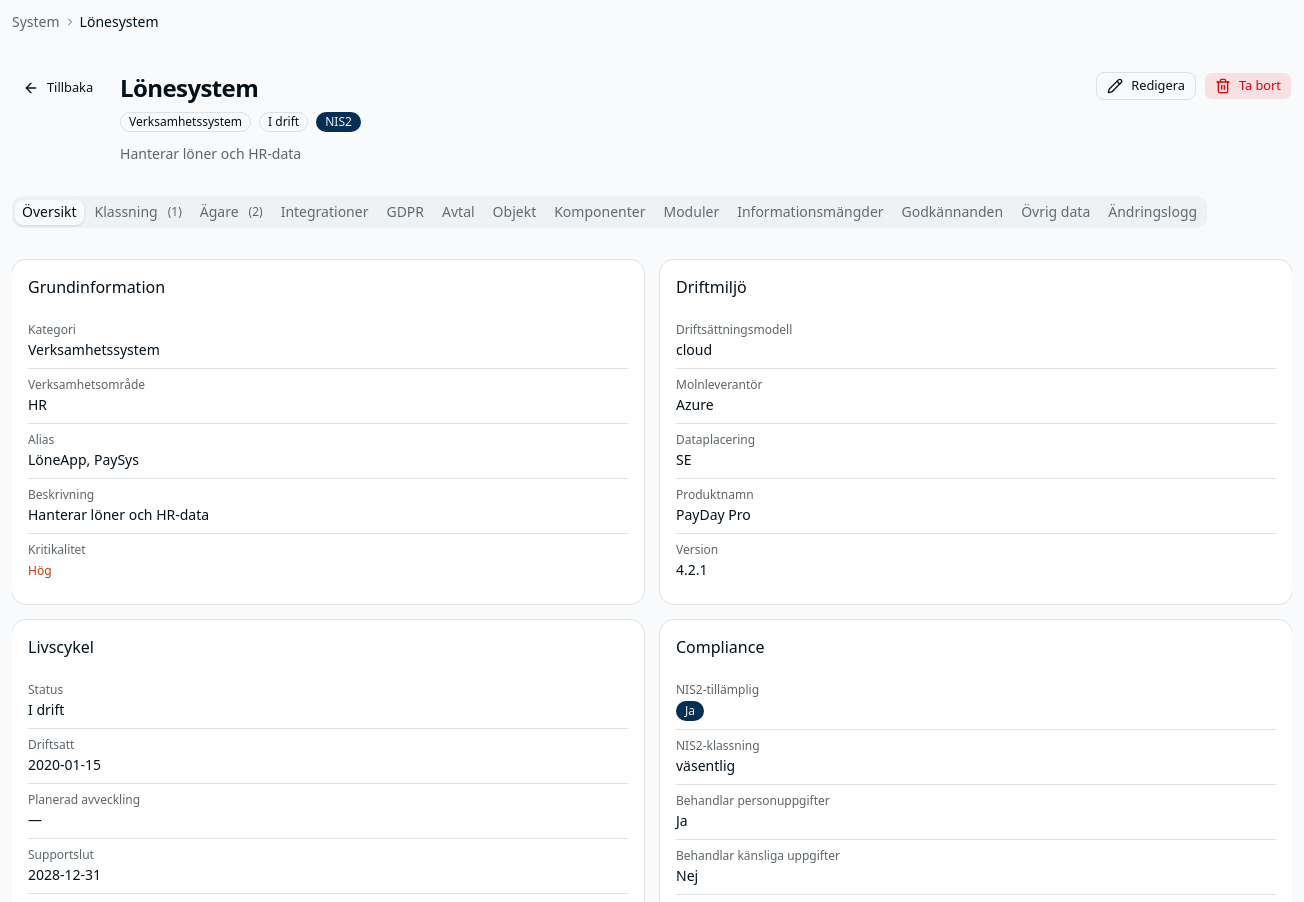
Scenario: SystemDetailPage › Integrationer-tab › visar integration i tabellen
Click the tab "Integrationer": (325, 212) [274,200,376,224]
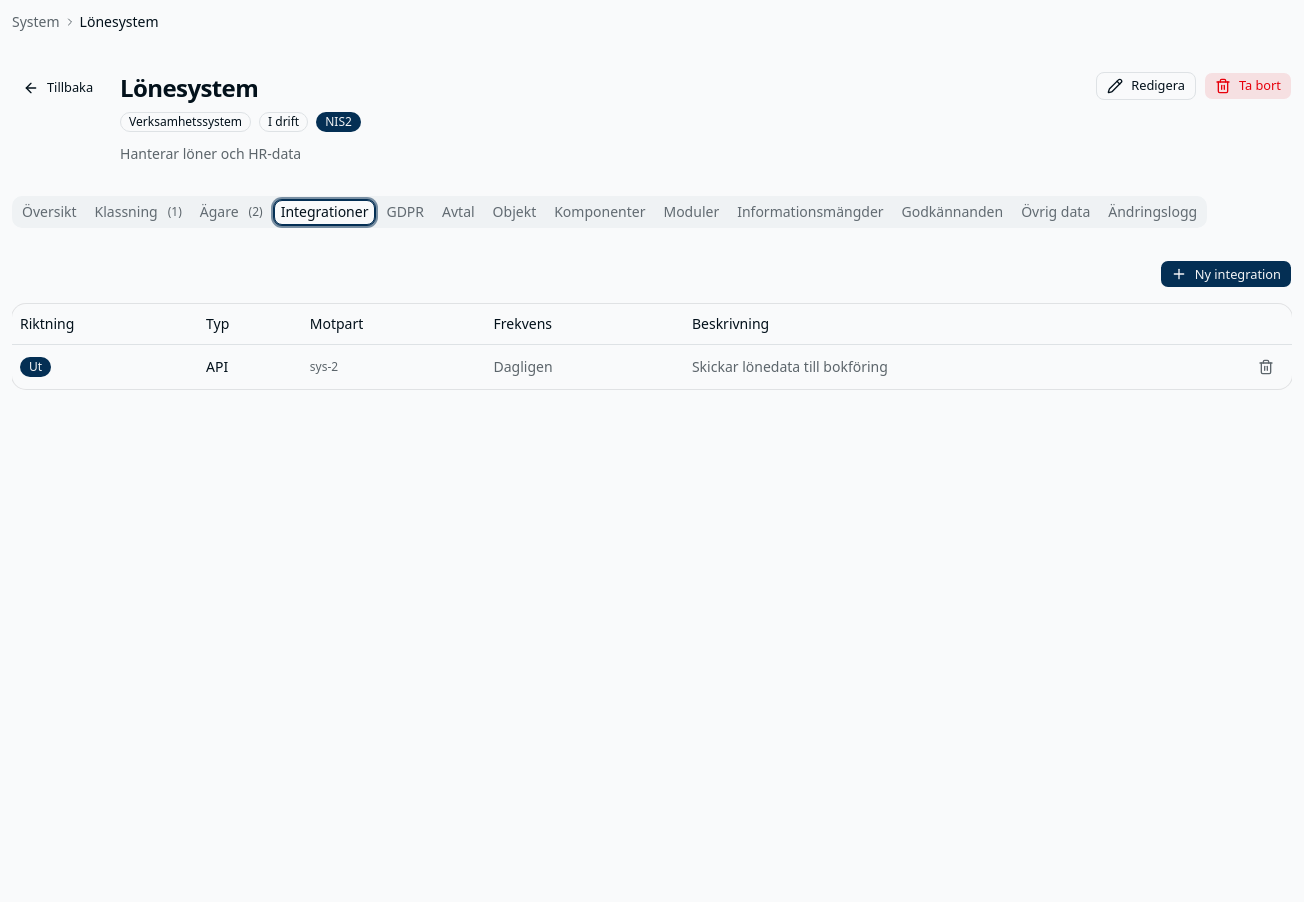
Expected: the text "Skickar lönedata till bokföring" is shown, [684,344,1244,388]
